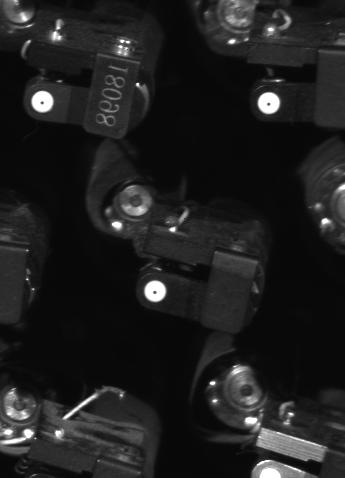fiber: (250, 85, 287, 119), (141, 276, 172, 309), (28, 88, 58, 120)
